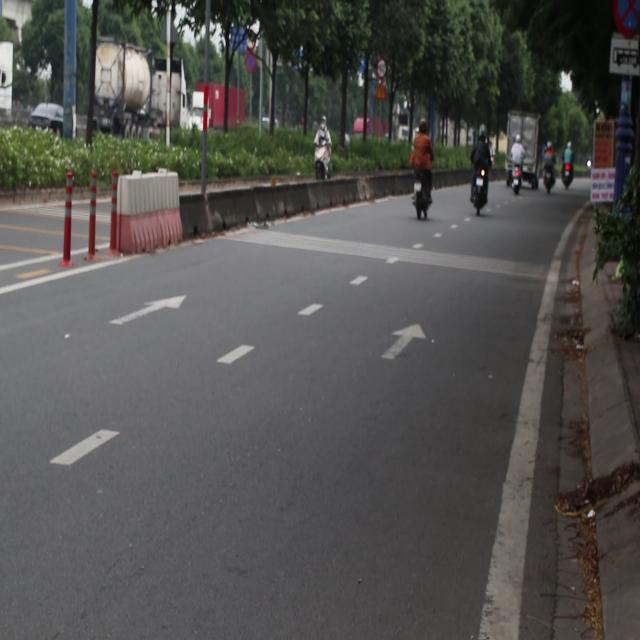car: (30, 104, 66, 134)
motorbike: (405, 168, 436, 223), (466, 158, 491, 224), (308, 130, 330, 194), (502, 153, 524, 199), (562, 163, 578, 197), (544, 164, 556, 200)
truck: (97, 49, 190, 145), (188, 82, 258, 136), (504, 107, 542, 182)
